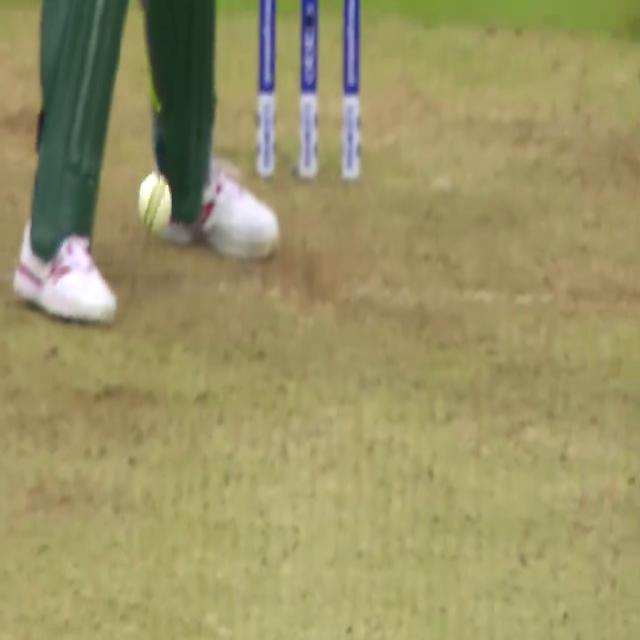ball: (127, 155, 179, 249)
